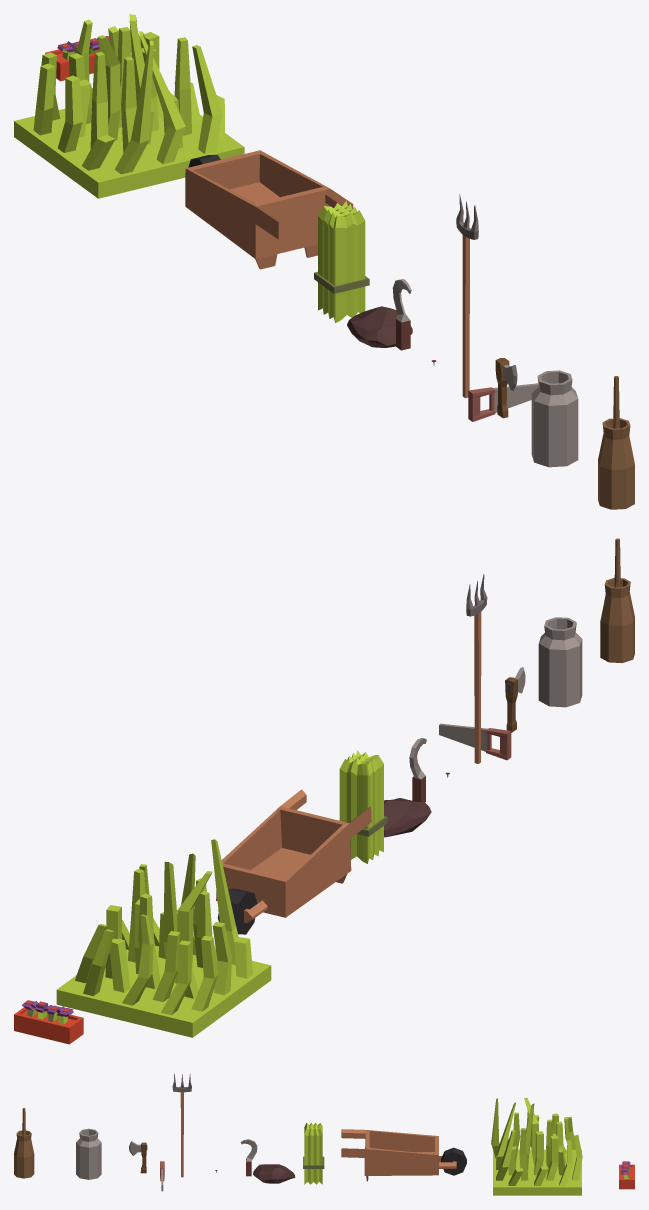
The model's file is items.gltf.
The picture shows the model from 3 angles, top to bottom: view 1: azimuth 30°, elevation 25°; view 2: azimuth 150°, elevation 25°; view 3: azimuth 270°, elevation 25°; orthographic projection. The views are drawn at different scales.
Visible parts, largest first — view 1: grasland, wheelbarrow, gras, milk_can, butter_maker, pitchfork, poo, Cube, sickel, plant_pot, hatchet; view 2: grasland, wheelbarrow, gras, milk_can, butter_maker, plant_pot, pitchfork, poo, Cube, hatchet, sickel; view 3: grasland, wheelbarrow, milk_can, gras, butter_maker, poo, pitchfork, plant_pot, hatchet, sickel.
Boxes of the visible parts, box(x1,y1,x2,y2) form: grasland: box(14, 14, 244, 198); wheelbarrow: box(185, 150, 353, 269); gras: box(314, 201, 369, 322); milk_can: box(531, 370, 578, 467); butter_maker: box(598, 376, 634, 509); pitchfork: box(456, 194, 478, 398); poo: box(347, 306, 412, 347); Cube: box(468, 383, 538, 421); sickel: box(392, 279, 411, 350); plant_pot: box(45, 36, 109, 81); hatchet: box(495, 358, 517, 418); grasland: box(56, 839, 271, 1037); wheelbarrow: box(216, 789, 371, 934); gras: box(339, 750, 387, 863); milk_can: box(538, 617, 582, 707); butter_maker: box(600, 538, 634, 662); plant_pot: box(14, 1000, 83, 1044); pitchfork: box(466, 574, 487, 763); poo: box(384, 798, 431, 837); Cube: box(439, 723, 511, 760); hatchet: box(505, 667, 525, 732); sickel: box(409, 738, 426, 802); grasland: box(491, 1097, 582, 1195); wheelbarrow: box(341, 1129, 466, 1181); milk_can: box(76, 1128, 101, 1179); gras: box(303, 1122, 324, 1184); butter_maker: box(14, 1108, 34, 1178); poo: box(253, 1164, 295, 1183); pitchfork: box(172, 1073, 191, 1177); plant_pot: box(619, 1161, 634, 1189); hatchet: box(129, 1141, 147, 1173); sickel: box(240, 1139, 257, 1176).
Size of the model in its own units: 2.05 by 2.69 by 13.97.
1 material, 1 textured.
